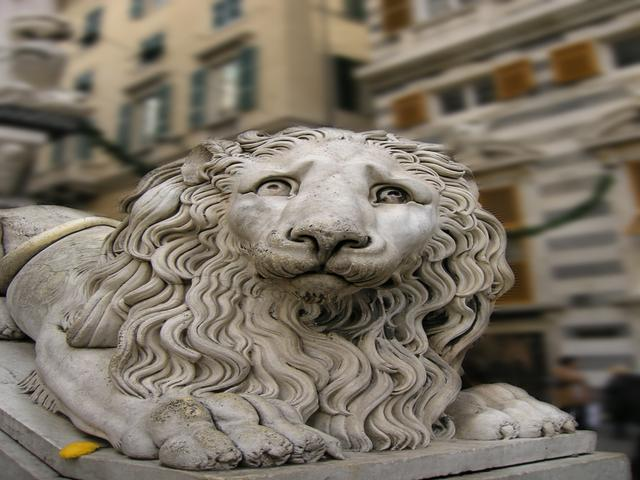lion: (16, 86, 579, 453)
